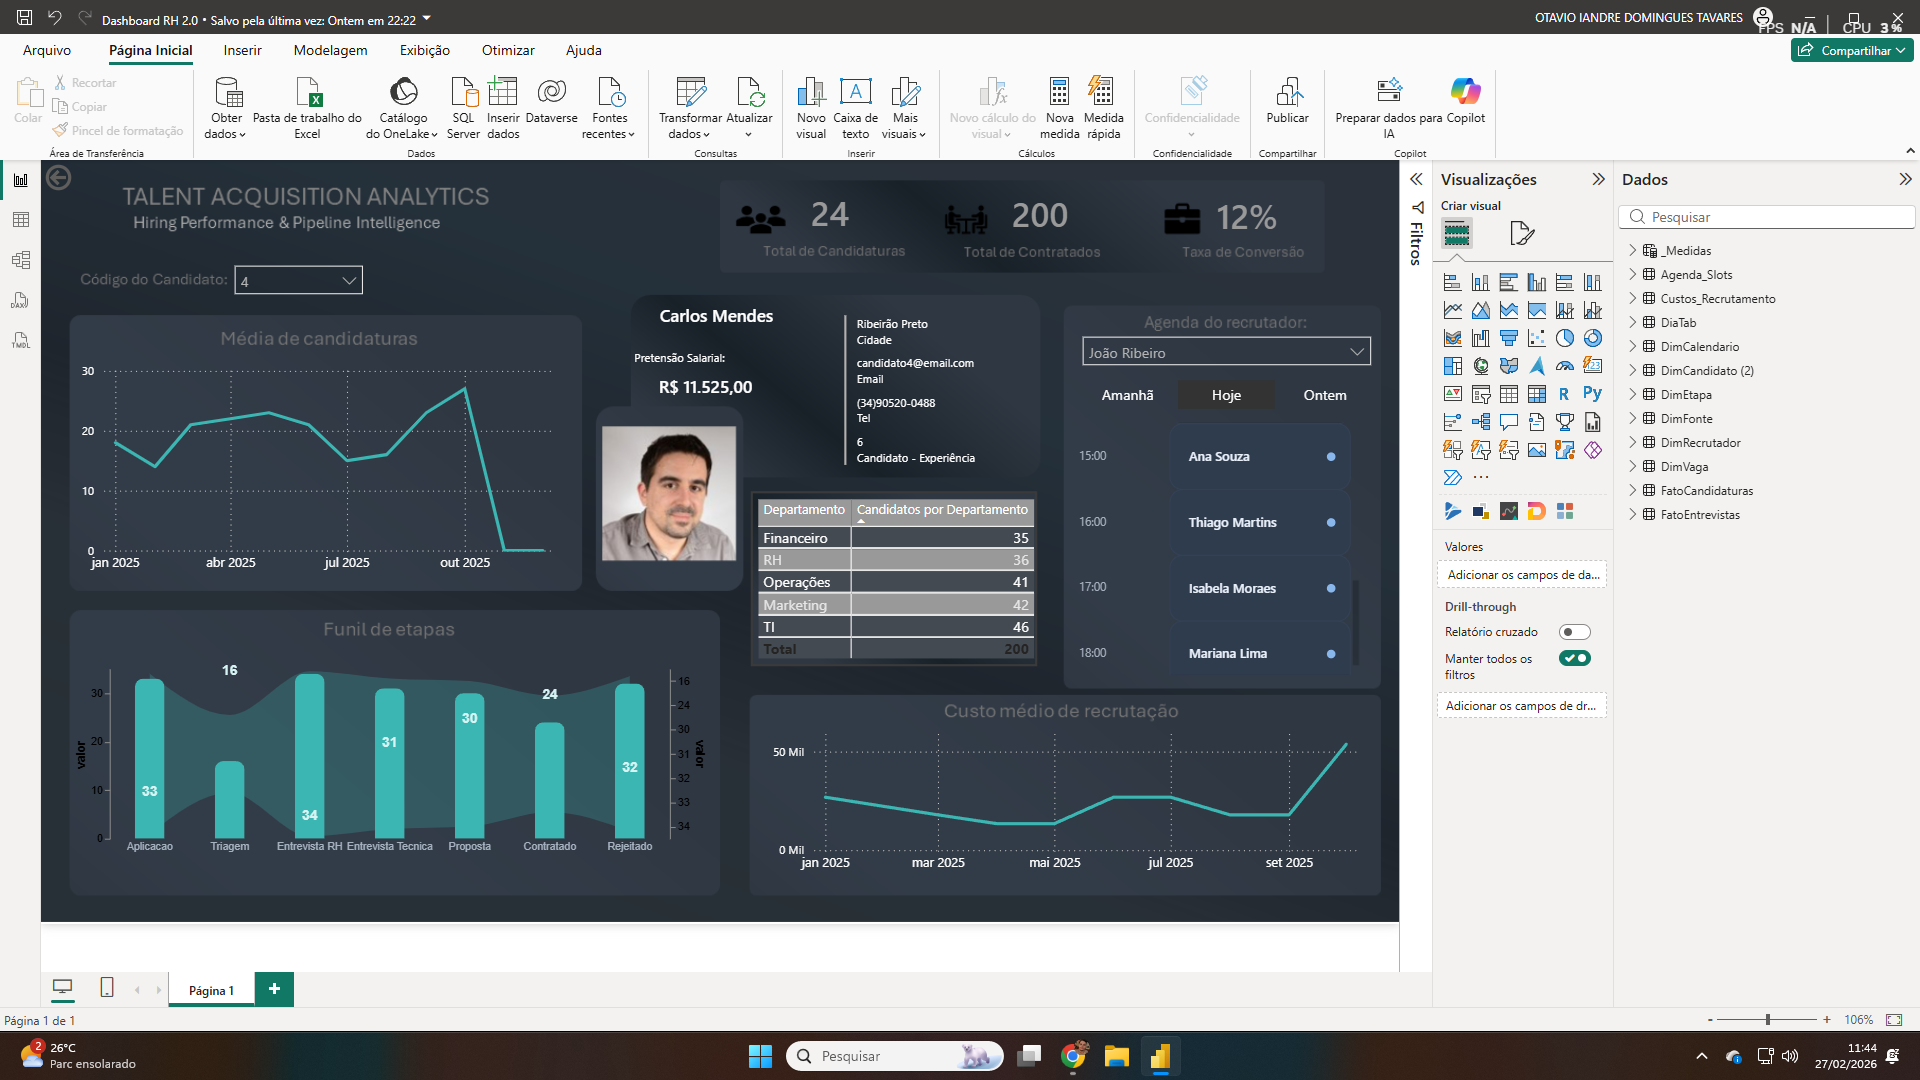

What the dashboard file says about the page in this screenshot:
{"tool":"powerbi","page":{"name":"Página 1","canvas":[1280,720],"ordinal":0},"visuals":[{"type":"slicer","fields":{"Values":["DimCandidato (2).ID_Candidato"]},"box":[172.2,89.2,140.9,41],"z":0},{"type":"cardVisual","fields":{"Data":["_Medidas.Total Candidatos"]},"box":[885.8,14.2,120.6,68.3],"z":1000},{"type":"cardVisual","fields":{"Data":["_Medidas.Total Contratados"]},"box":[696.6,14.1,130.1,67.9],"z":2000},{"type":"cardVisual","fields":{"Data":["_Medidas.Candidato - Nome"]},"box":[553.9,114.2,185.5,62.4],"z":4000},{"type":"multiRowCard","fields":{"Values":["_Medidas.Candidato - Cidade","_Medidas.Candidato - Email","_Medidas.Candidato - Tel","_Medidas.Candidato - Experiência"]},"box":[751.9,141.8,219.4,158.8],"z":5000},{"type":"pivotTable","fields":{"Rows":["DimVaga.Departamento"],"Values":["CountNonNull(FatoCandidaturas.ID_Candidatura)"]},"box":[671.1,314.8,275.2,175.3],"z":6000},{"type":"lineChart","fields":{"Category":["DimCalendario.Ano_Mes.Variation.Hierarquia de datas.Ano","DimCalendario.Ano_Mes.Variation.Hierarquia de datas.Trimestre","DimCalendario.Ano_Mes.Variation.Hierarquia de datas.Mês","DimCalendario.Ano_Mes.Variation.Hierarquia de datas.Dia"],"Y":["_Medidas.Custo Médio por Contratação"]},"box":[684.3,525,574,155.5],"z":7000},{"type":"slicer","fields":{"Values":["DiaTab.Tab"]},"box":[954.4,202.5,325.6,36.6],"z":8000},{"type":"deneb7E15AEF80B9E4D4F8E12924291ECE89A","fields":{"dataset":["Agenda_Slots.HoraKey","Agenda_Slots.HoraTxt","_Medidas.Agenda - Tem Entrevista","_Medidas.Agenda - Candidato (Label)"]},"box":[962.4,242.2,287.5,247.9],"z":9000},{"type":"slicer","fields":{"Values":["DimRecrutador.Nome_Recrutador"]},"box":[971.4,156.1,291.7,48.2],"z":10000},{"type":"ImageGrid_FC5183B9_926C_45E0_B5F7_0CE9EAF1DA9B","fields":{"ImageURLHQ":["DimCandidato (2).Foto_URL"]},"box":[523.6,231,136.5,166.8],"z":11000},{"type":"lineChart","fields":{"Y":["_Medidas.Total Candidaturas (Zero)"],"Category":["DimCalendario.Ano_Mes"]},"box":[31.7,184.5,469.9,213.3],"z":12000},{"type":"actionButton","box":[0,0,58,33],"z":13000},{"type":"deneb7E15AEF80B9E4D4F8E12924291ECE89A","fields":{"dataset":["DimEtapa.Ordem","DimEtapa.Etapa","_Medidas.Qtd Candidaturas (Zero)"]},"box":[20.5,464.7,619.9,215.9],"z":14000},{"type":"textbox","box":[553.9,171.3,149.9,31.2],"z":15000},{"type":"cardVisual","fields":{"Data":["_Medidas.Candidato - Pretensão"]},"box":[553.3,184.7,172.5,54.7],"z":16000},{"type":"cardVisual","fields":{"Data":["_Medidas.Taxa Conversão"]},"box":[1079.2,17,134.8,67.9],"z":16001}]}

Visuals, with their boxes on the page's 1280x720 design canvas (x1, y1, x2, y2). These are canvas units, not pixel positions in the 1920x1080 screenshot, which may show the page scaled, cropped or inside an application window:
slicer - DimCandidato (2).ID_Candidato: 172 89 313 130
cardVisual - _Medidas.Total Candidatos: 886 14 1006 82
cardVisual - _Medidas.Total Contratados: 697 14 827 82
cardVisual - _Medidas.Candidato - Nome: 554 114 739 177
multiRowCard - _Medidas.Candidato - Cidade x _Medidas.Candidato - Email: 752 142 971 301
pivotTable - DimVaga.Departamento x CountNonNull(FatoCandidaturas.ID_Candidatura): 671 315 946 490
lineChart - DimCalendario.Ano_Mes.Variation.Hierarquia de datas.Ano x DimCalendario.Ano_Mes.Variation.Hierarquia de datas.Trimestre: 684 525 1258 680
slicer - DiaTab.Tab: 954 202 1280 239
deneb7E15AEF80B9E4D4F8E12924291ECE89A - Agenda_Slots.HoraKey x Agenda_Slots.HoraTxt: 962 242 1250 490
slicer - DimRecrutador.Nome_Recrutador: 971 156 1263 204
ImageGrid_FC5183B9_926C_45E0_B5F7_0CE9EAF1DA9B - DimCandidato (2).Foto_URL: 524 231 660 398
lineChart - _Medidas.Total Candidaturas (Zero) x DimCalendario.Ano_Mes: 32 184 502 398
actionButton: 0 0 58 33
deneb7E15AEF80B9E4D4F8E12924291ECE89A - DimEtapa.Ordem x DimEtapa.Etapa: 20 465 640 681
textbox: 554 171 704 202
cardVisual - _Medidas.Candidato - Pretensão: 553 185 726 239
cardVisual - _Medidas.Taxa Conversão: 1079 17 1214 85
